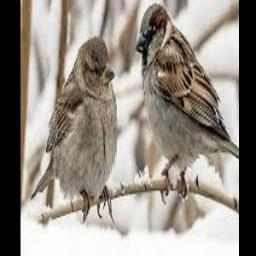Sparrow: (136, 2, 239, 204), (30, 35, 118, 225)
